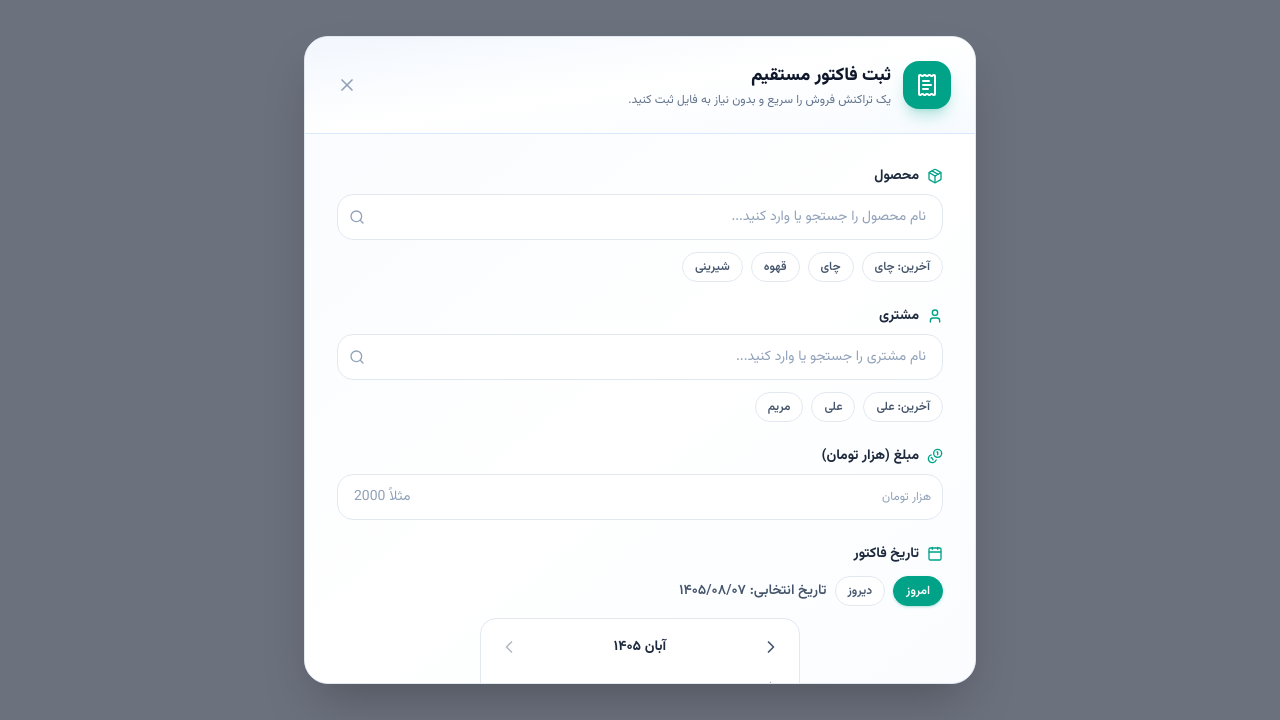
Test: [page] InvoiceModal (ثبت فاکتور) › shows the realtime grouped value and Persian words as the amount is typed
This screenshot has width=1280, height=720.
Expected: the heading "ثبت فاکتور مستقیم" is shown, [751,62,891,90]
Type "2000" into the number field with placeholder "مثلاً 2000" at [640, 497], box [337,474,943,520]
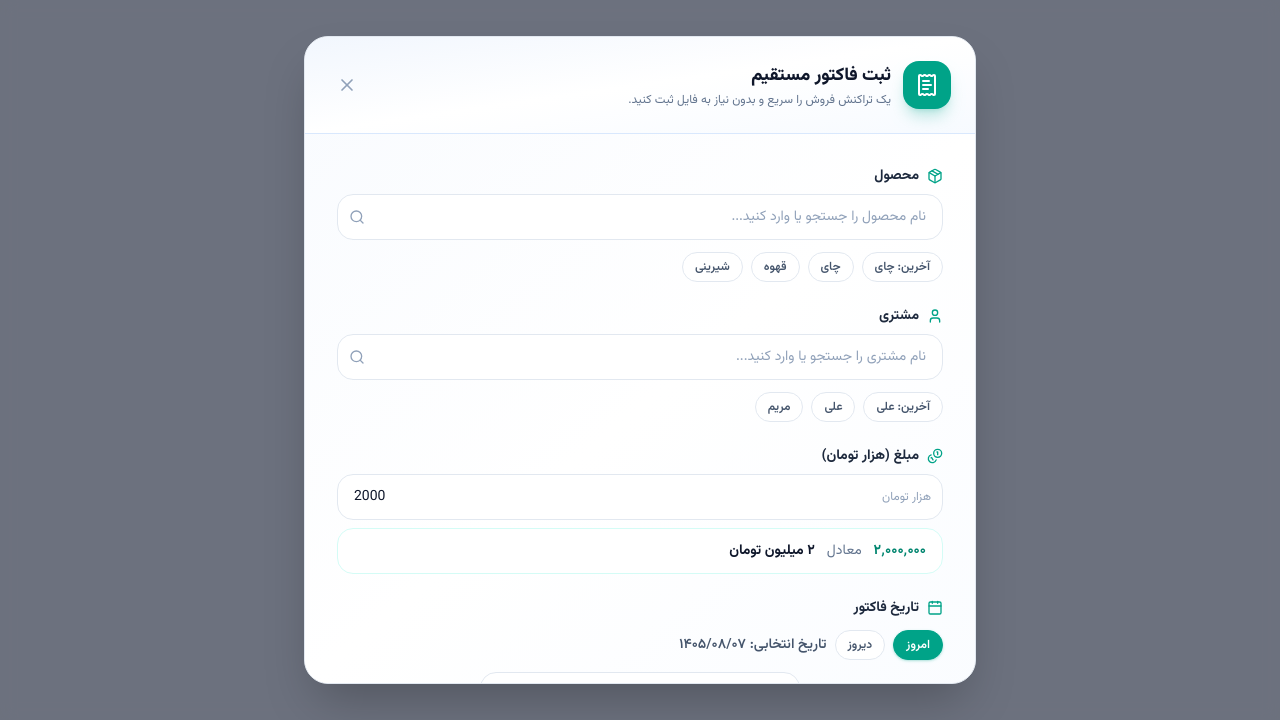
Now the text "۲٬۰۰۰٬۰۰۰" is shown, box [874,541,926,561]
Now the text "۲ میلیون تومان" is shown, box [729,541,815,561]
